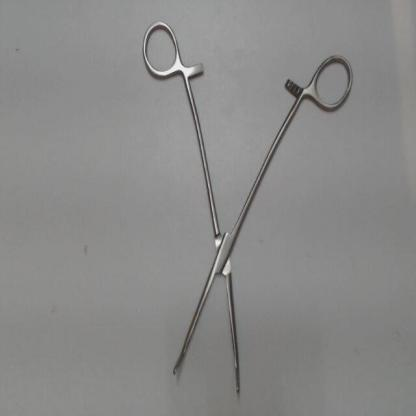Lahey Forceps: (131, 16, 358, 397)
